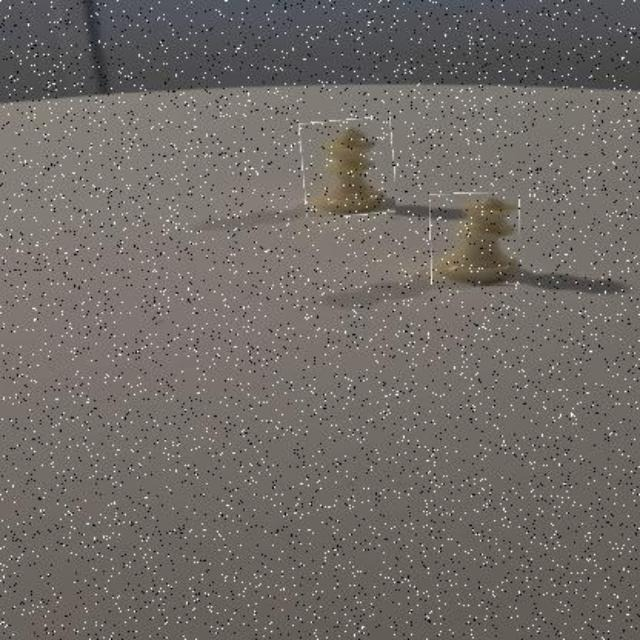white-king: (301, 119, 395, 217)
white-queen: (430, 194, 520, 286)
